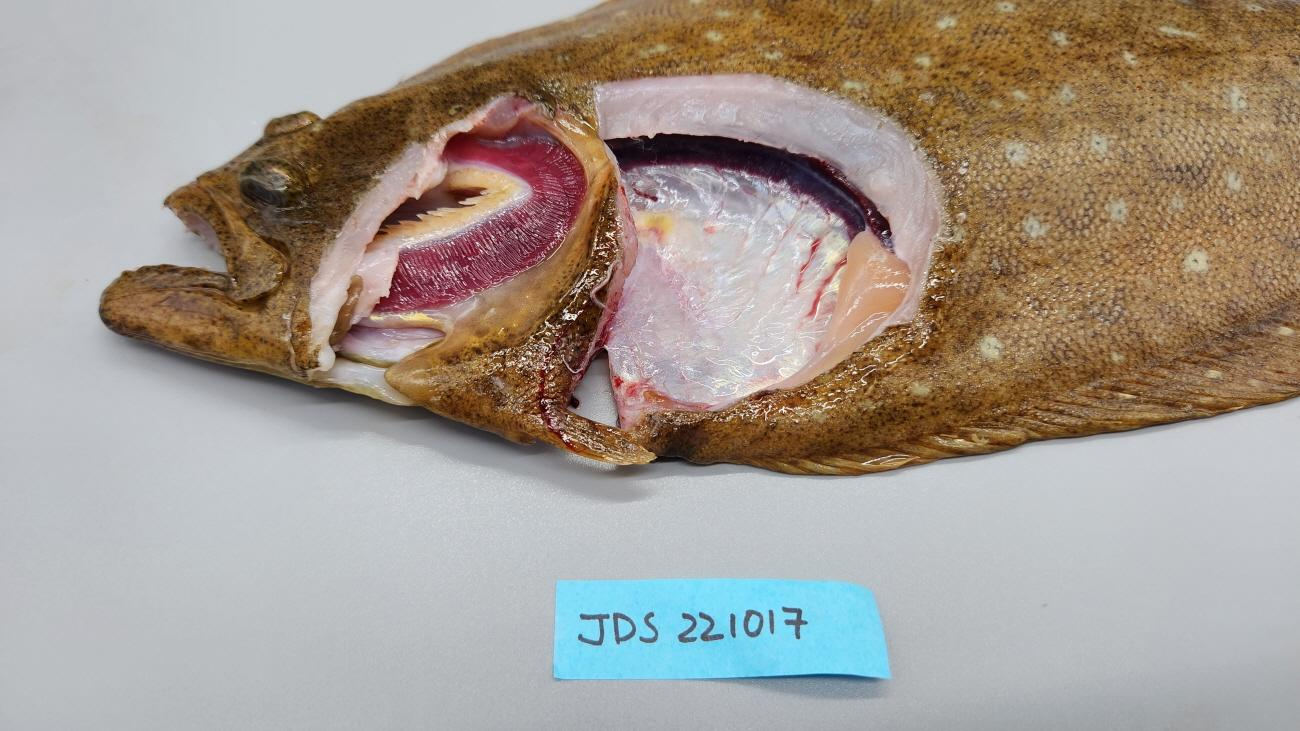POKIN: (603, 132, 897, 255)
